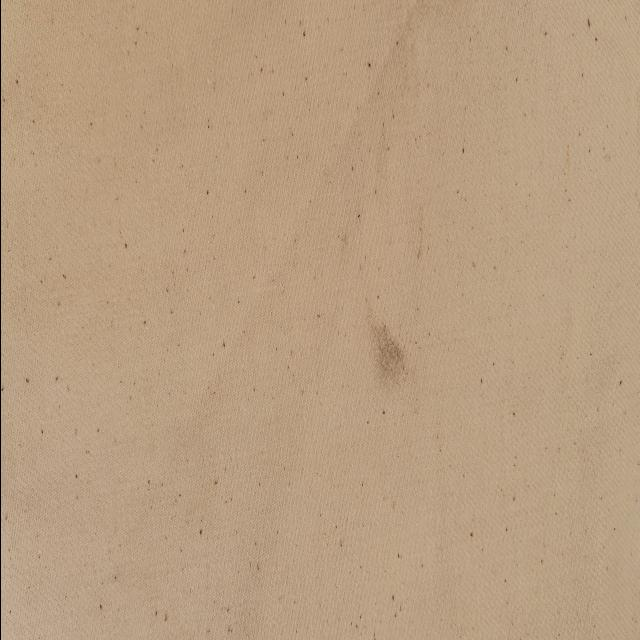taaaches: (360, 302, 420, 427)
